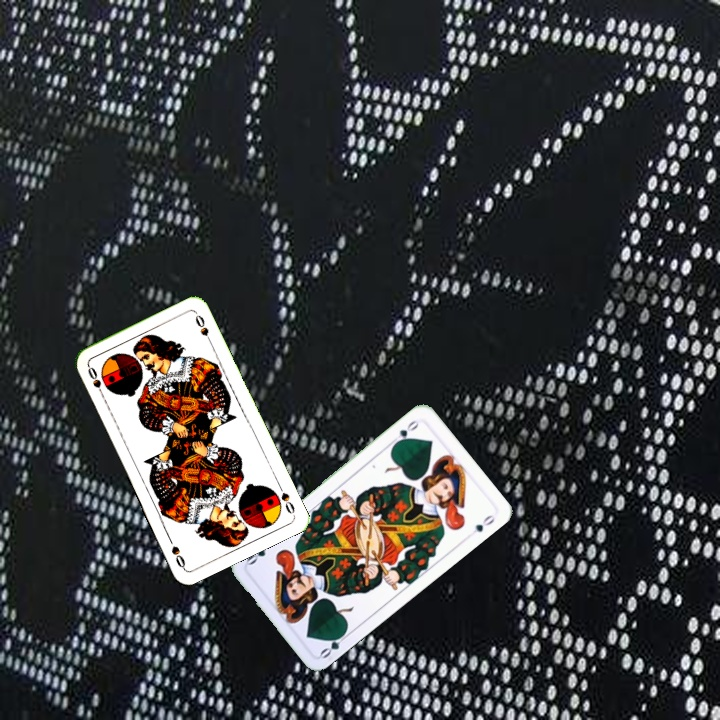GO: (316, 627, 352, 661), (390, 416, 421, 448)
SO: (274, 479, 297, 518), (84, 362, 107, 400)
